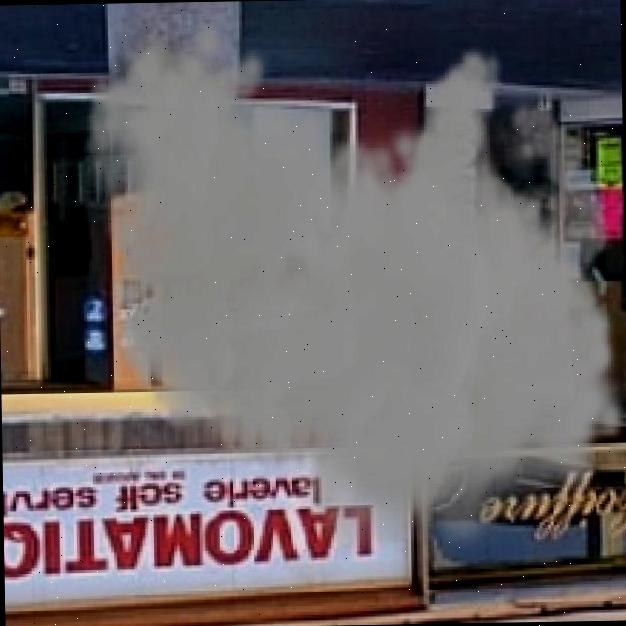smoke: (106, 64, 489, 470)
